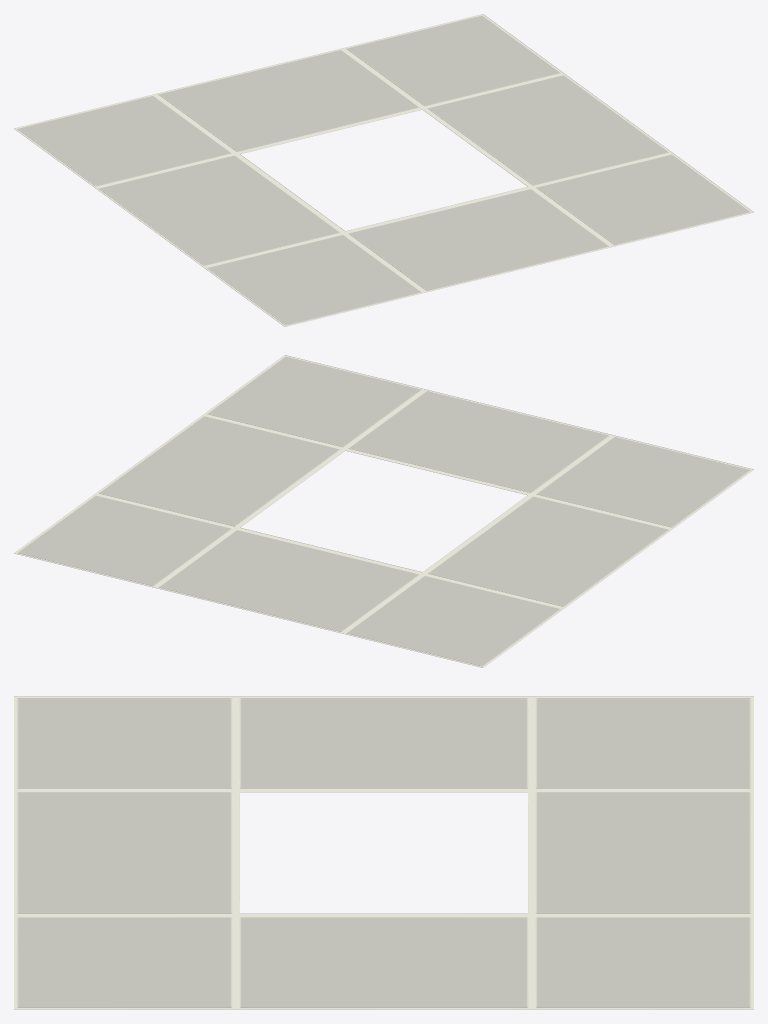
File: Ceiling.fbx
3 views of the same model, one above another, from view 1: azimuth 30°, elevation 25°; view 2: azimuth 150°, elevation 25°; view 3: azimuth 270°, elevation 25° (orthographic). The views are drawn at different scales.
Visible parts, largest first — view 1: Ceiling; view 2: Ceiling; view 3: Ceiling.
Part boxes in pixels (x1,y1,x2,y2): Ceiling: (14,14,753,326); Ceiling: (14,355,753,667); Ceiling: (14,696,753,1009).
Bounding box in the file's own units: 500 × 0.25 × 500.
